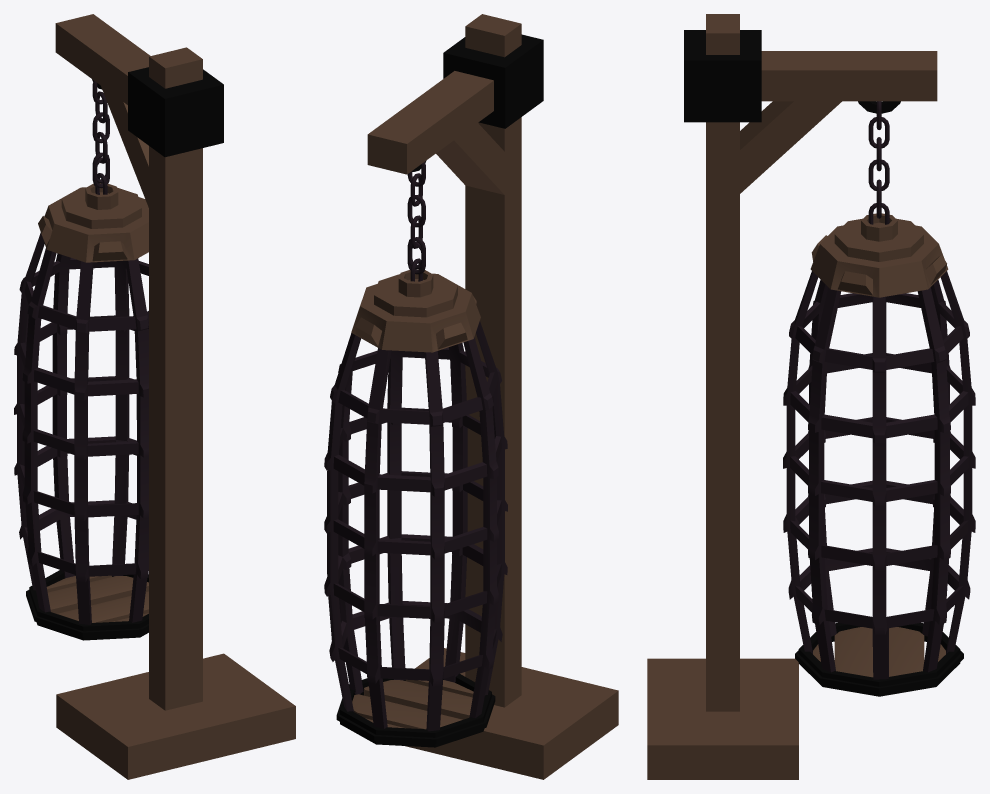
The model's file is Cage.fbx.
3 views of the same model, side by side, from view 1: azimuth 30°, elevation 25°; view 2: azimuth 150°, elevation 25°; view 3: azimuth 270°, elevation 25° (orthographic). The views are drawn at different scales.
Visible parts, largest first — view 1: Cage.016; view 2: Cage.016; view 3: Cage.016.
Boxes of the visible parts, x1,y1,x2,y2 form: Cage.016: [14, 14, 295, 779]; Cage.016: [324, 14, 618, 779]; Cage.016: [647, 14, 975, 779].
Size of the model in its own units: 1.02 by 3.92 by 1.64.
